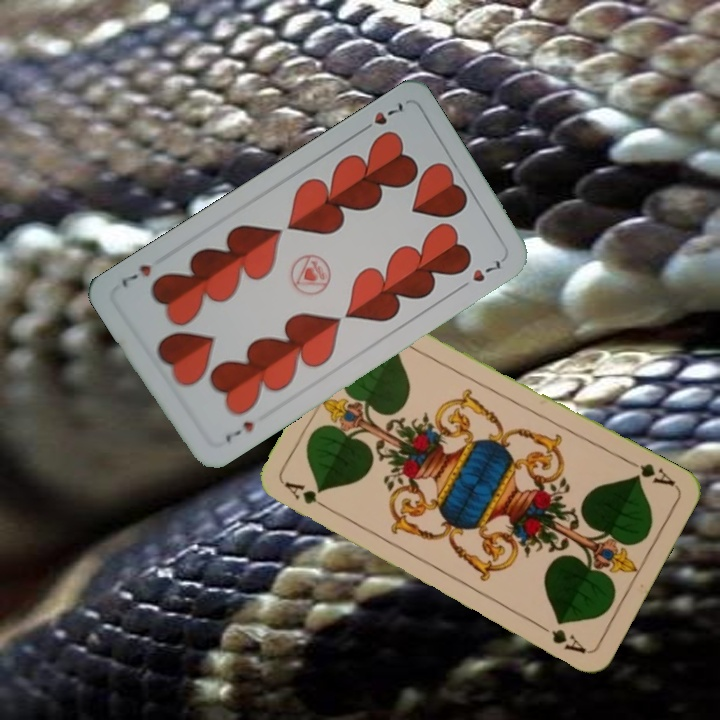GA: (280, 477, 335, 515), (623, 456, 678, 489)
H7: (355, 98, 406, 136), (220, 417, 257, 445)
